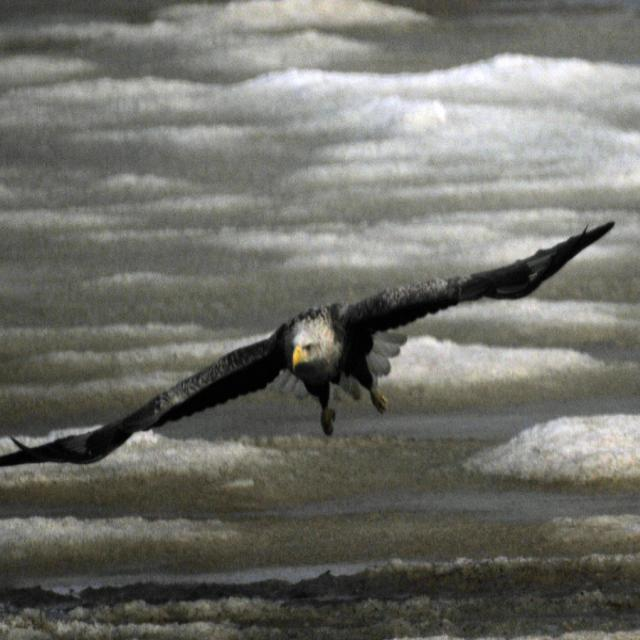bird: (0, 212, 627, 472)
